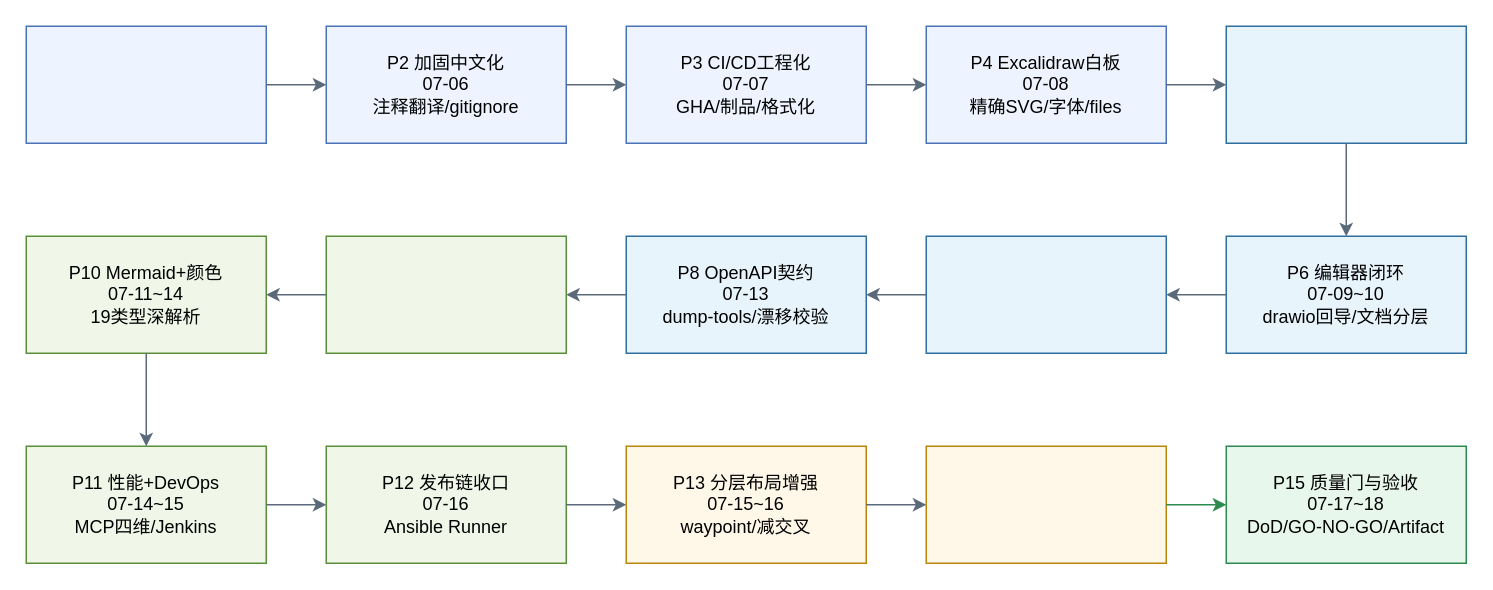
The diagram is 1493 pixels wide and 590 high, and some of its shapes have lost their labels. Here are the shapes that lost their labels. From the top down, the centre of each, then its label:
At (145,84): "P1 核心引擎 07-05 JSON/解析/导出/MCP".
At (1345,84): "P5 架构重构 07-09 CLI/版本/游标".
At (445,294): "P9 通用表协作 07-13~14 Table/桥接/协同".
At (1045,294): "P7 macOS CD 07-11 三平台矩阵恢复".
At (1045,504): "P14 几何MCP+表互通 07-17 原子编辑/SpreadsheetML".
